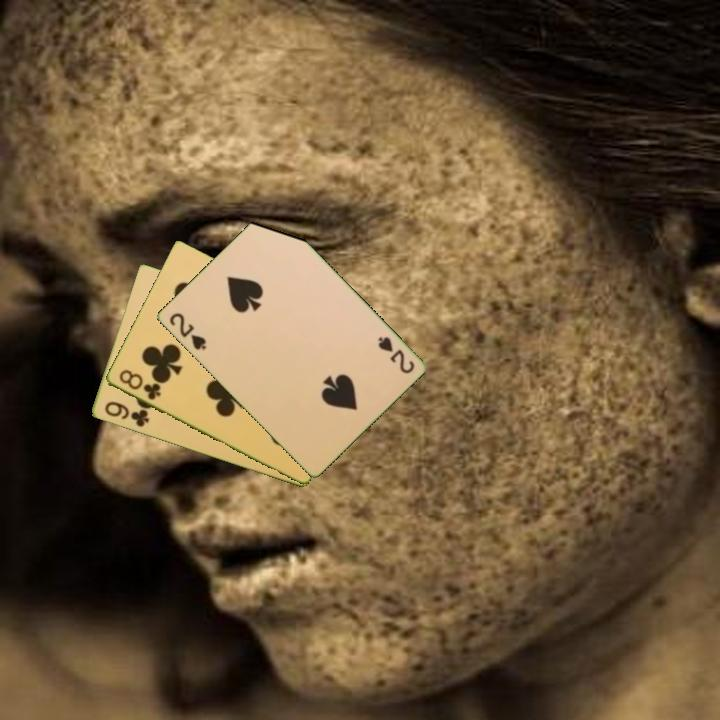2s: (165, 309, 209, 353), (374, 333, 417, 377)
8c: (115, 366, 163, 403)
9c: (101, 398, 152, 430)
